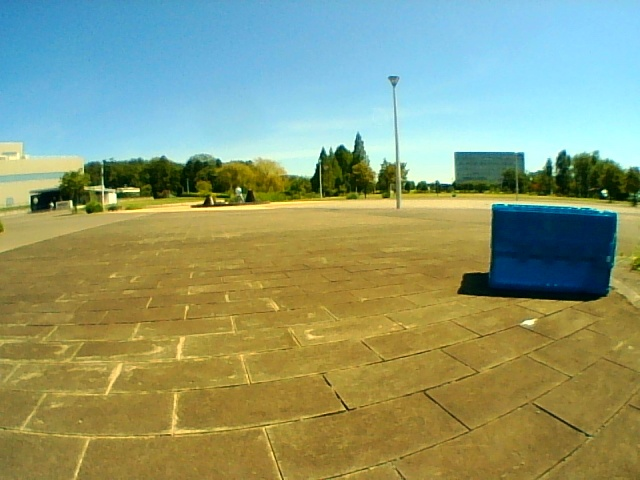blue_box: (493, 207, 605, 289)
